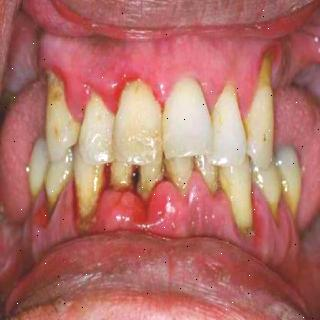Gum Swelling: (15, 173, 301, 262), (40, 32, 286, 123)
calculus: (150, 158, 180, 200), (68, 203, 102, 236), (210, 160, 236, 200), (122, 156, 146, 196), (229, 216, 261, 243)
stains: (235, 113, 259, 150)
